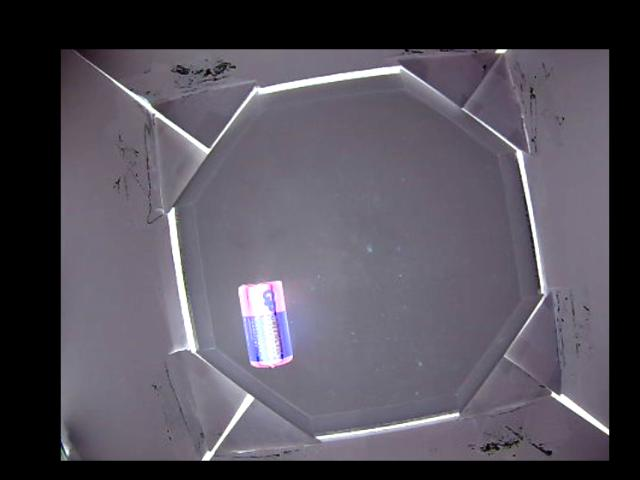Battery: (234, 279, 293, 368)
